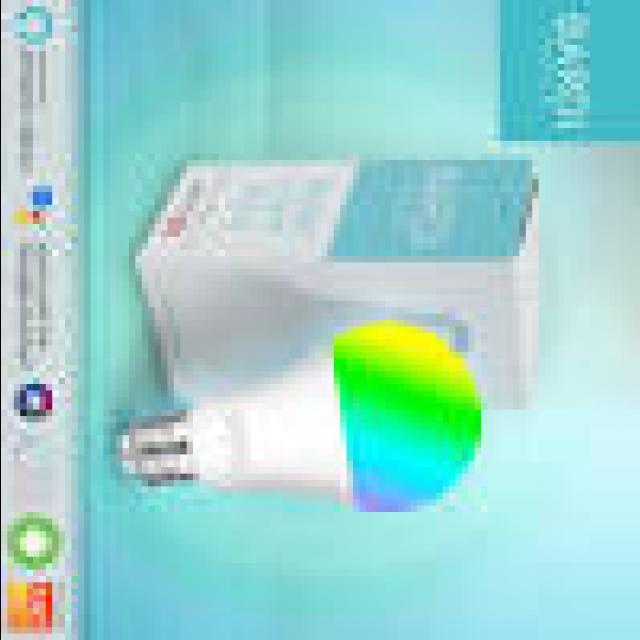light_bulb: (96, 304, 500, 538)
